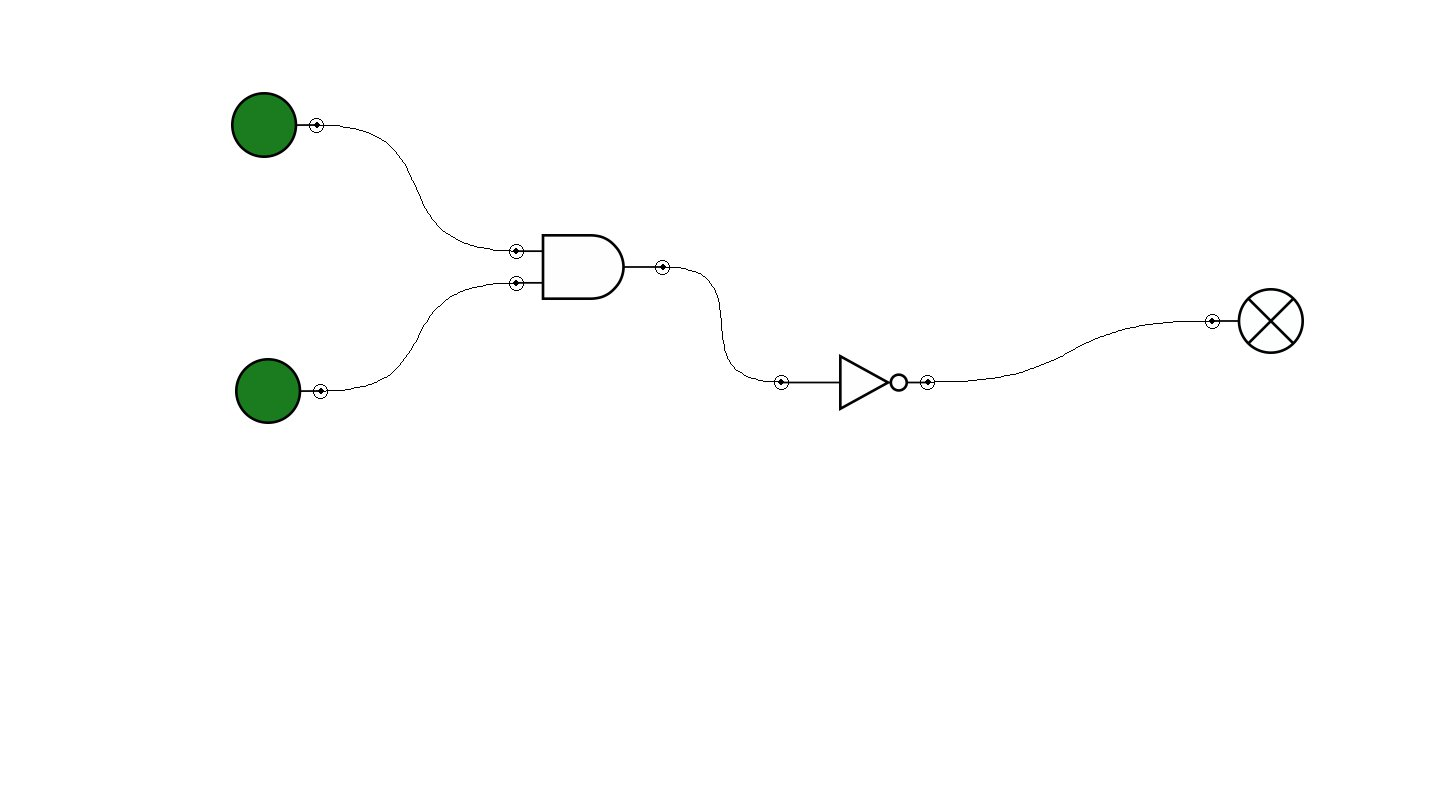and: (509, 234, 670, 300)
bulb: (1205, 288, 1304, 354)
not: (774, 354, 935, 411)
switch_True: (231, 92, 324, 158), (235, 358, 328, 424)
